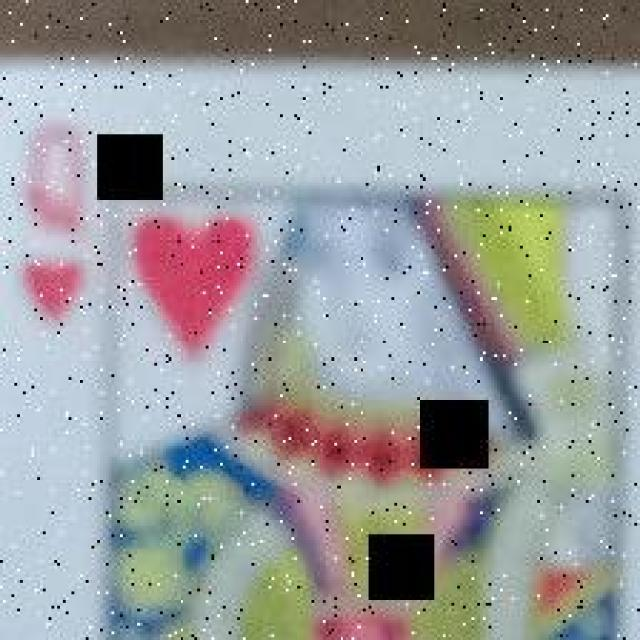Queen of hearts: (0, 59, 640, 640)
